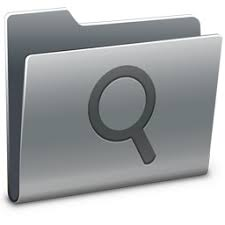searchIcon: (86, 62, 159, 167)
